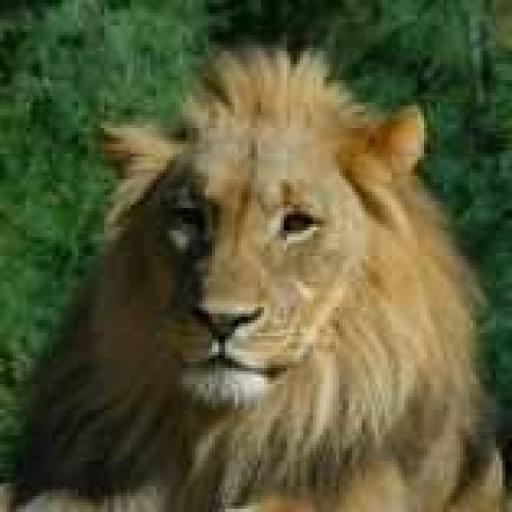Lion: (0, 38, 509, 509)
